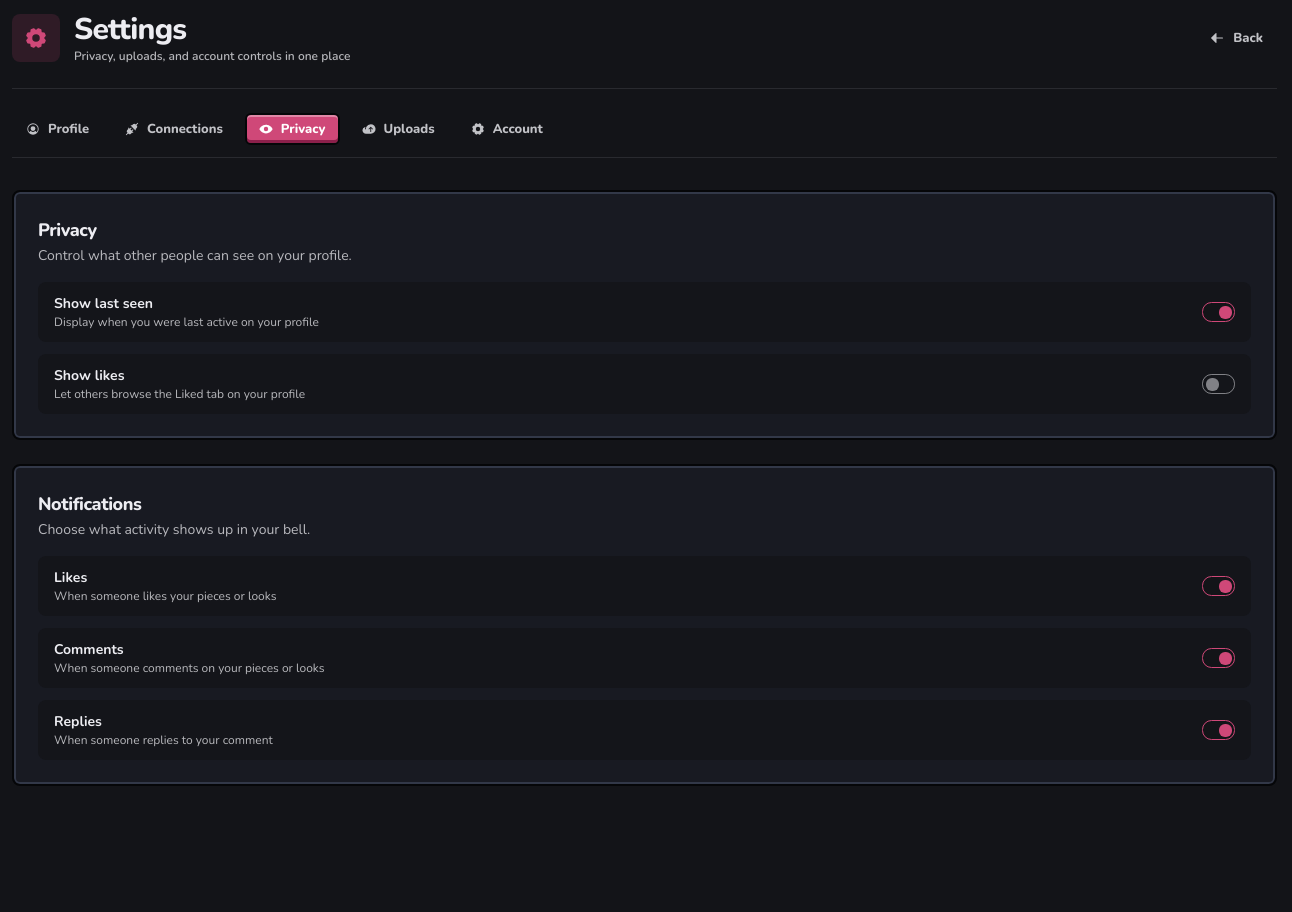
Test: SettingsPage › surfaces rate-limit errors through formatErrorMessage
The image size is (1292, 912).
Click the checkbox named "Show last seen": (1218, 312) x1=1202 y1=302 x2=1235 y2=322
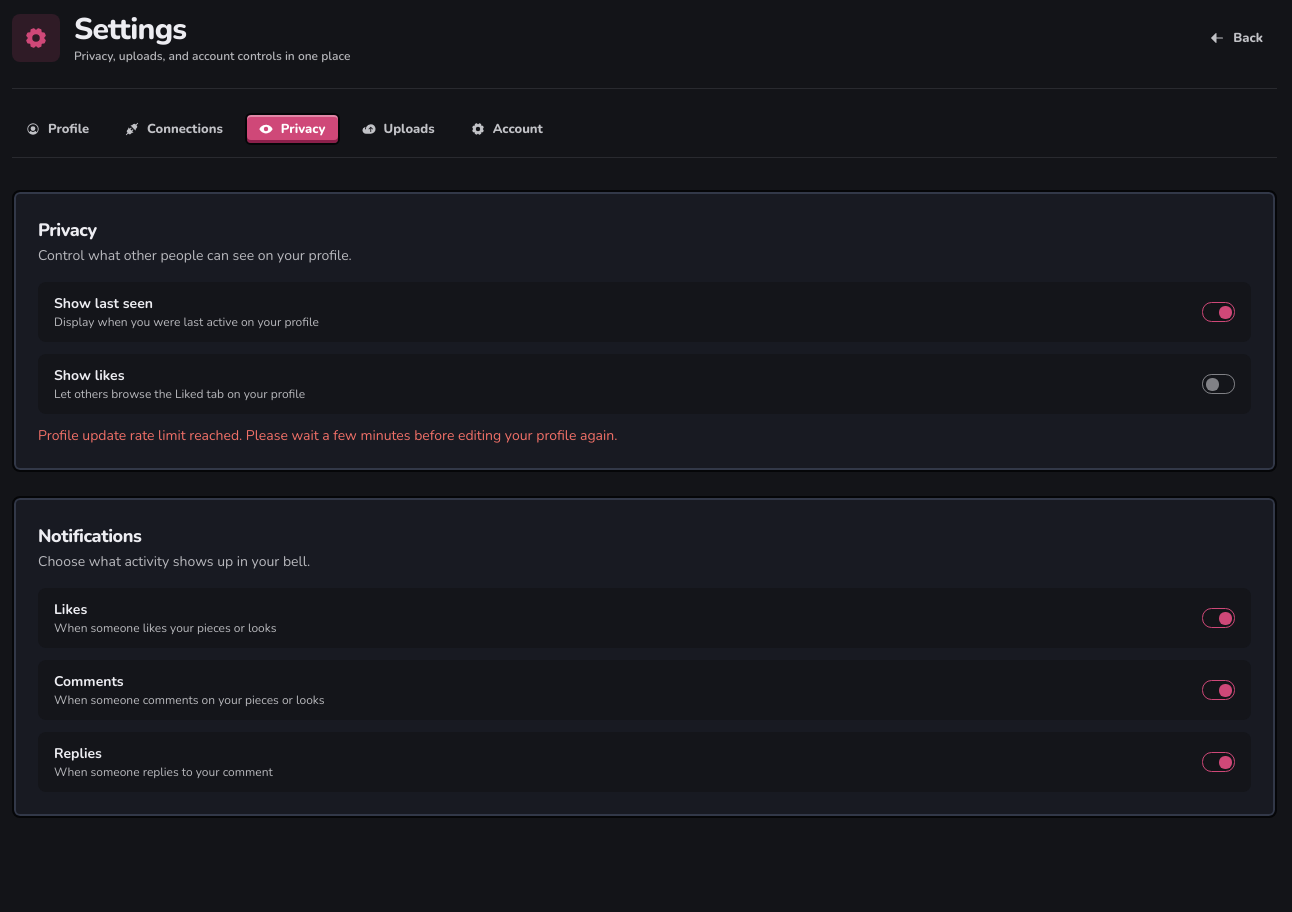
Now the text "Profile update rate limit reached" is shown, box x1=38 y1=426 x2=617 y2=445
